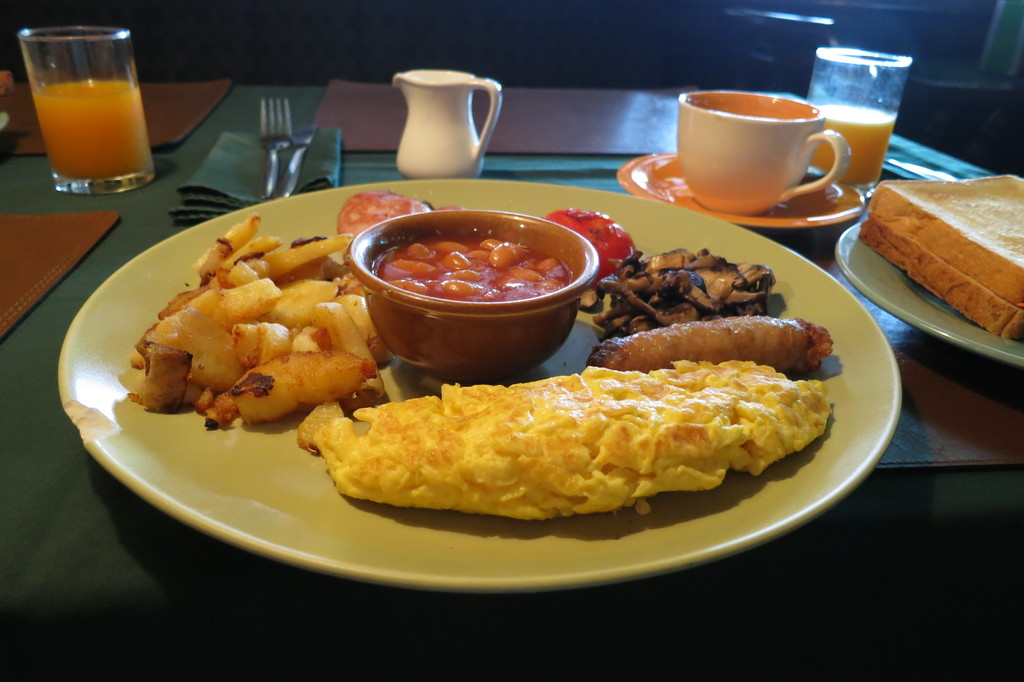French fries: (119, 208, 396, 430)
